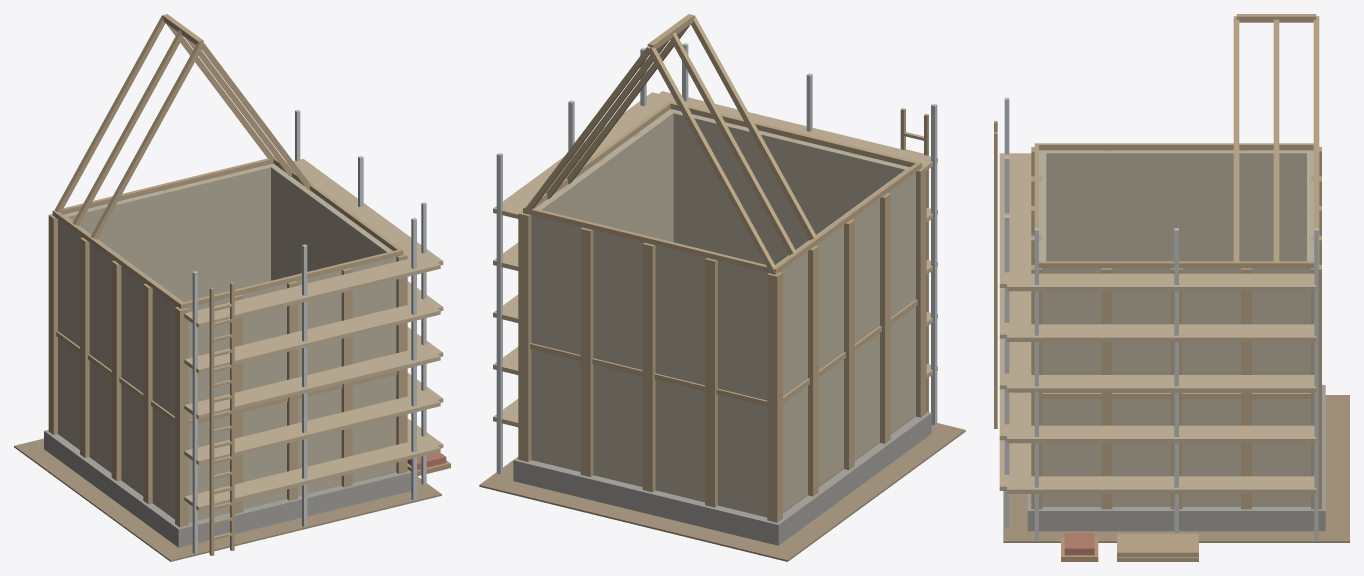
The model's file is feed_mill_site_8.glb.
3 renders of one model, left to right at view 1: azimuth 30°, elevation 25°; view 2: azimuth 150°, elevation 25°; view 3: azimuth 270°, elevation 25°, orthographic. The views are drawn at different scales.
Visible parts, largest first — view 1: body; view 2: body; view 3: body.
Boxes of the visible parts, x1,y1,x2,y2 form: body: (14,14,450,561); body: (479,14,965,561); body: (994,14,1349,561).
Size of the model in its own units: 2.1 by 2.69 by 1.91.
